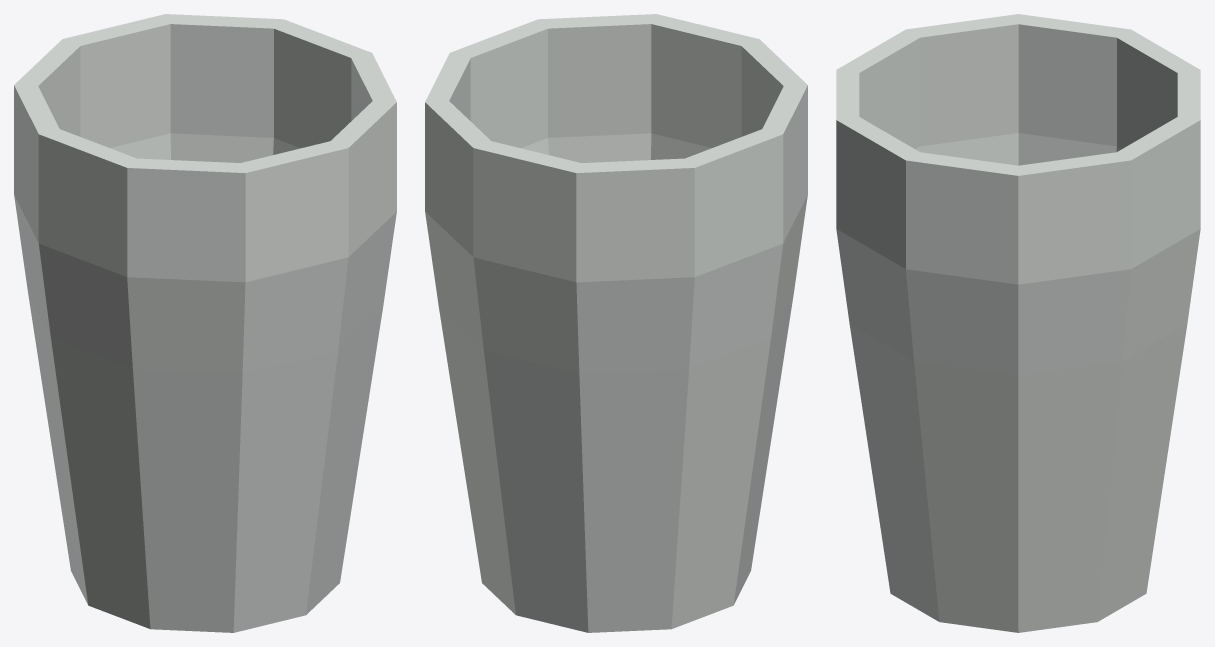
Rendered from Cup_empty.glb.
3 views of the same model, side by side, from view 1: azimuth 30°, elevation 25°; view 2: azimuth 150°, elevation 25°; view 3: azimuth 270°, elevation 25° (orthographic).
Visible parts, largest first — view 1: Cube; view 2: Cube; view 3: Cube.
Part boxes in pixels (<box>): Cube: <box>14,14,396,632</box>; Cube: <box>425,14,807,632</box>; Cube: <box>836,14,1200,632</box>.
Size of the model in its own units: 0.4744 by 0.6572 by 0.4511.
Materials: 1 (1 with a texture image).
